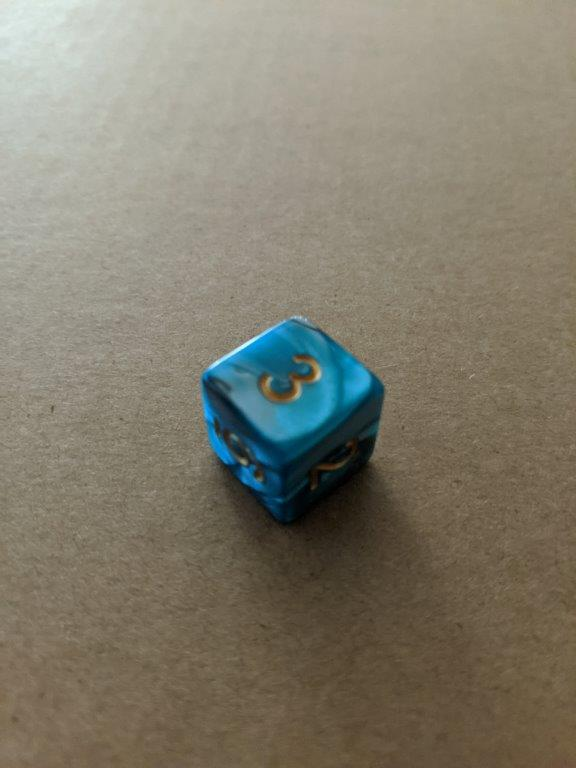d6-3: (200, 314, 387, 522)
